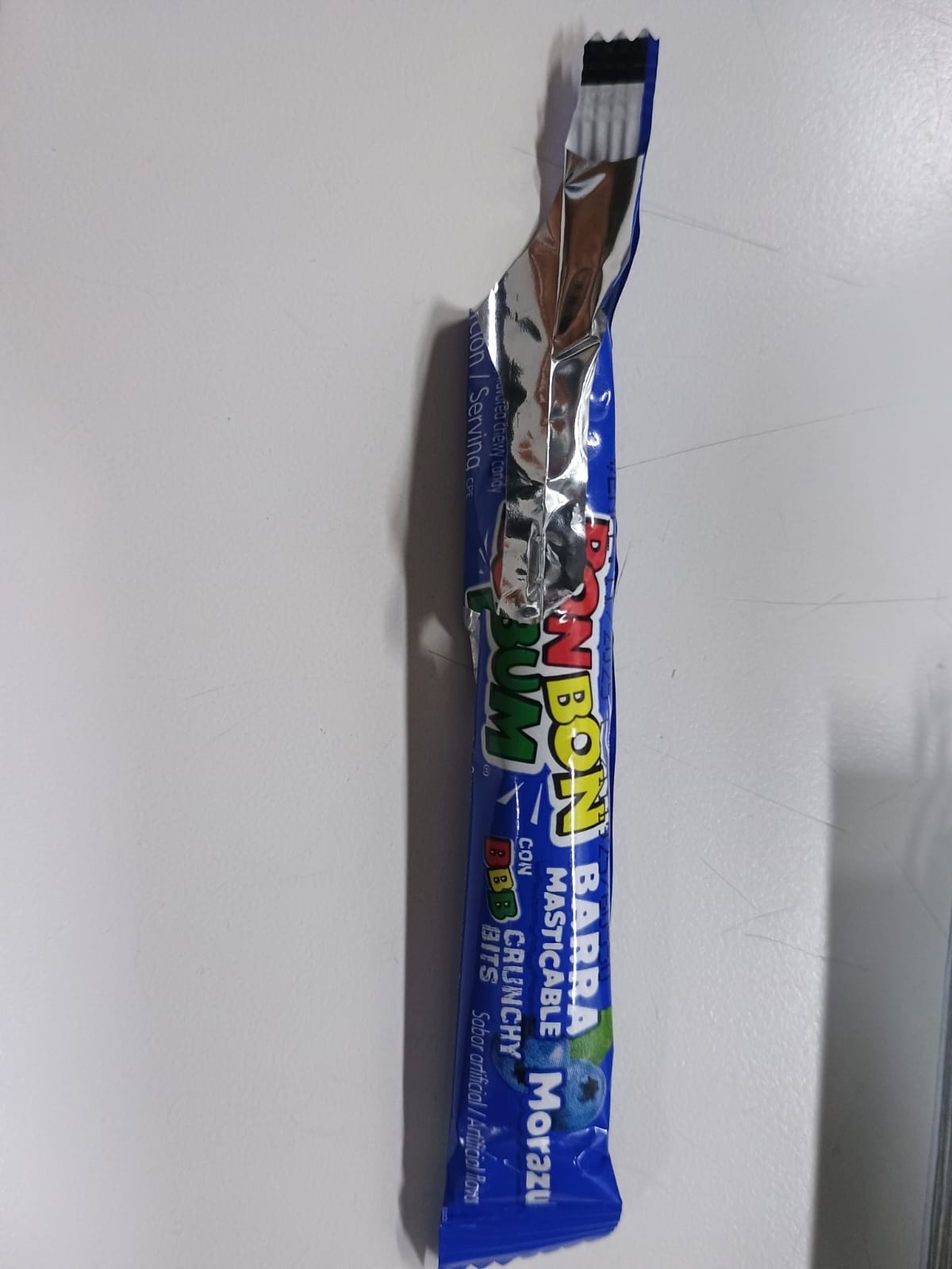Ordinario: (439, 35, 659, 1269)
